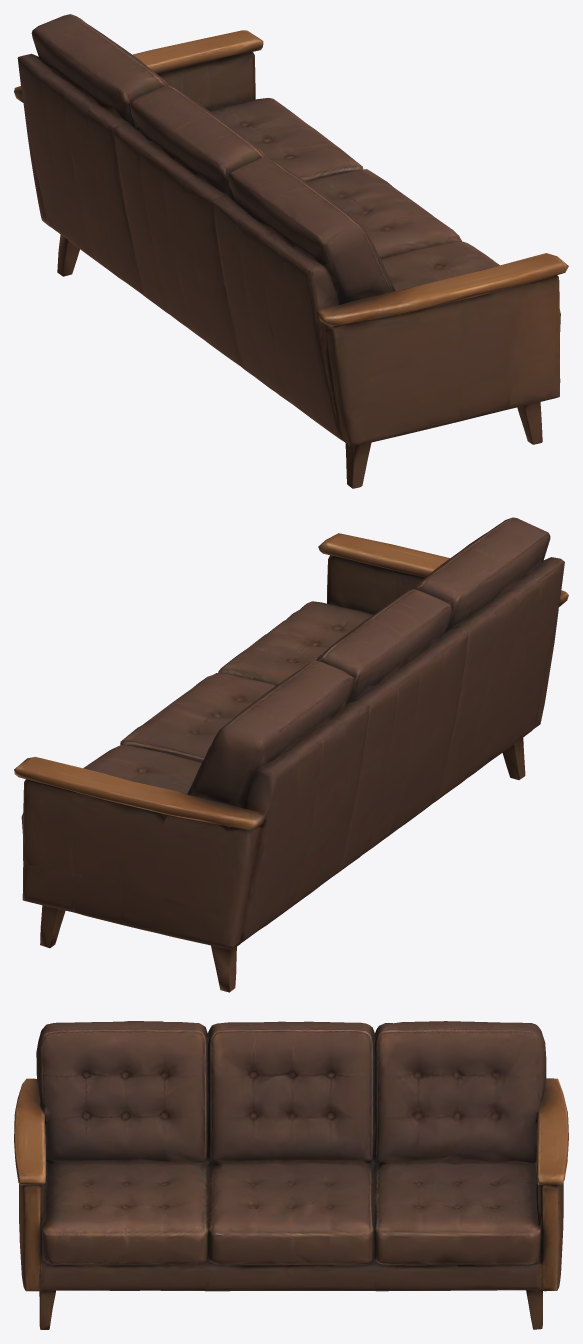
The model's file is sofa.glb.
3 views of the same model, one above another, from view 1: azimuth 30°, elevation 25°; view 2: azimuth 150°, elevation 25°; view 3: azimuth 270°, elevation 25° (orthographic). The views are drawn at different scales.
Parts seen in each view (by area): view 1: tripo_node_194a547f-50d7-4265-b51d-831b5e9c7da1; view 2: tripo_node_194a547f-50d7-4265-b51d-831b5e9c7da1; view 3: tripo_node_194a547f-50d7-4265-b51d-831b5e9c7da1.
Boxes of the visible parts, x1,y1,x2,y2 form: tripo_node_194a547f-50d7-4265-b51d-831b5e9c7da1: (14, 14, 568, 488); tripo_node_194a547f-50d7-4265-b51d-831b5e9c7da1: (14, 517, 568, 992); tripo_node_194a547f-50d7-4265-b51d-831b5e9c7da1: (14, 1021, 568, 1329).
Size of the model in its own units: 0.4585 by 0.447 by 1.
1 material, 1 textured.
